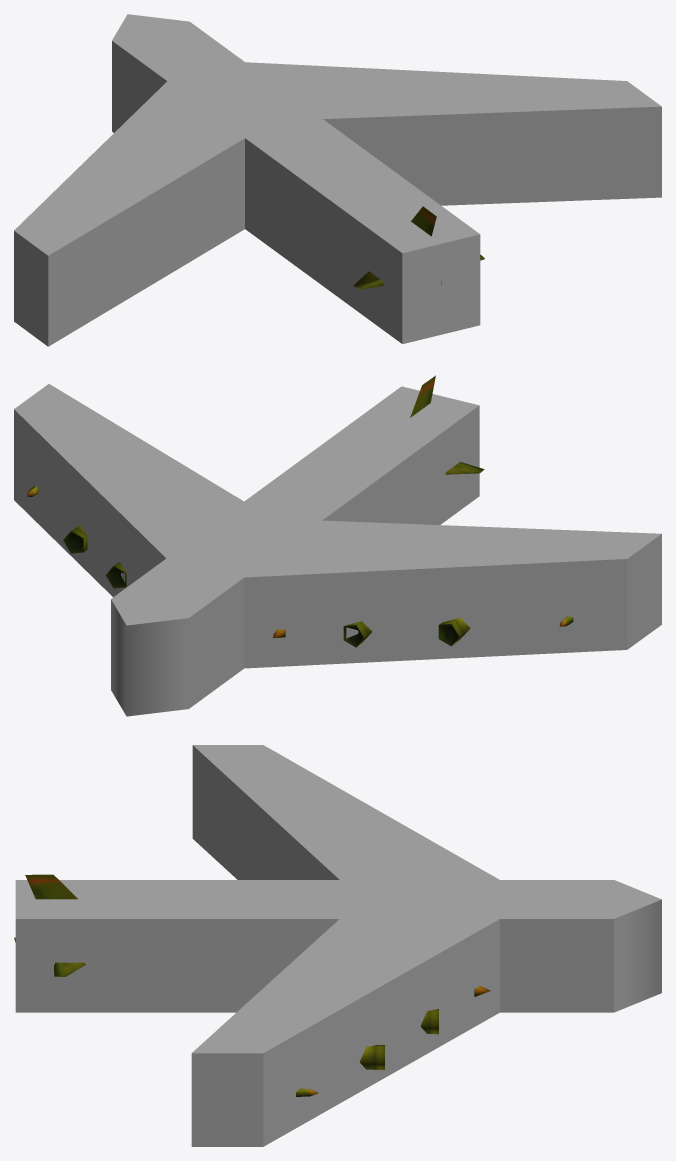
Rendered from Enemy2b.FBX.
3 views of the same model, one above another, from view 1: azimuth 30°, elevation 25°; view 2: azimuth 150°, elevation 25°; view 3: azimuth 270°, elevation 25° (orthographic). The views are drawn at different scales.
Visible parts, largest first — view 1: col, enemy2; view 2: col, enemy2; view 3: col, enemy2.
Boxes of the visible parts, x1,y1,x2,y2 form: col: (14,14,661,346); enemy2: (353,206,484,289); col: (14,384,661,716); enemy2: (27,375,573,647); col: (15,745,661,1146); enemy2: (14,874,490,1096).
Bounding box in the file's own units: 330 × 59.1 × 293.
Materials: 2 (1 with a texture image).
